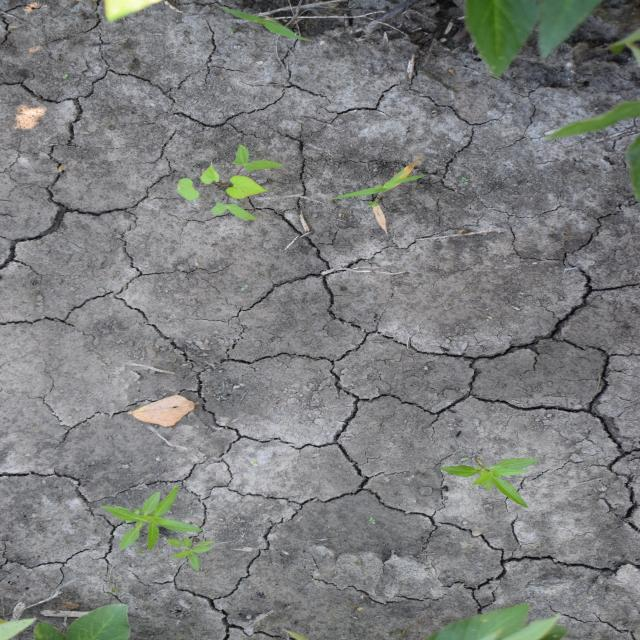Eclipta: (100, 485, 204, 551), (438, 454, 543, 509), (165, 533, 216, 571)
MorningGlory: (171, 143, 285, 222)
